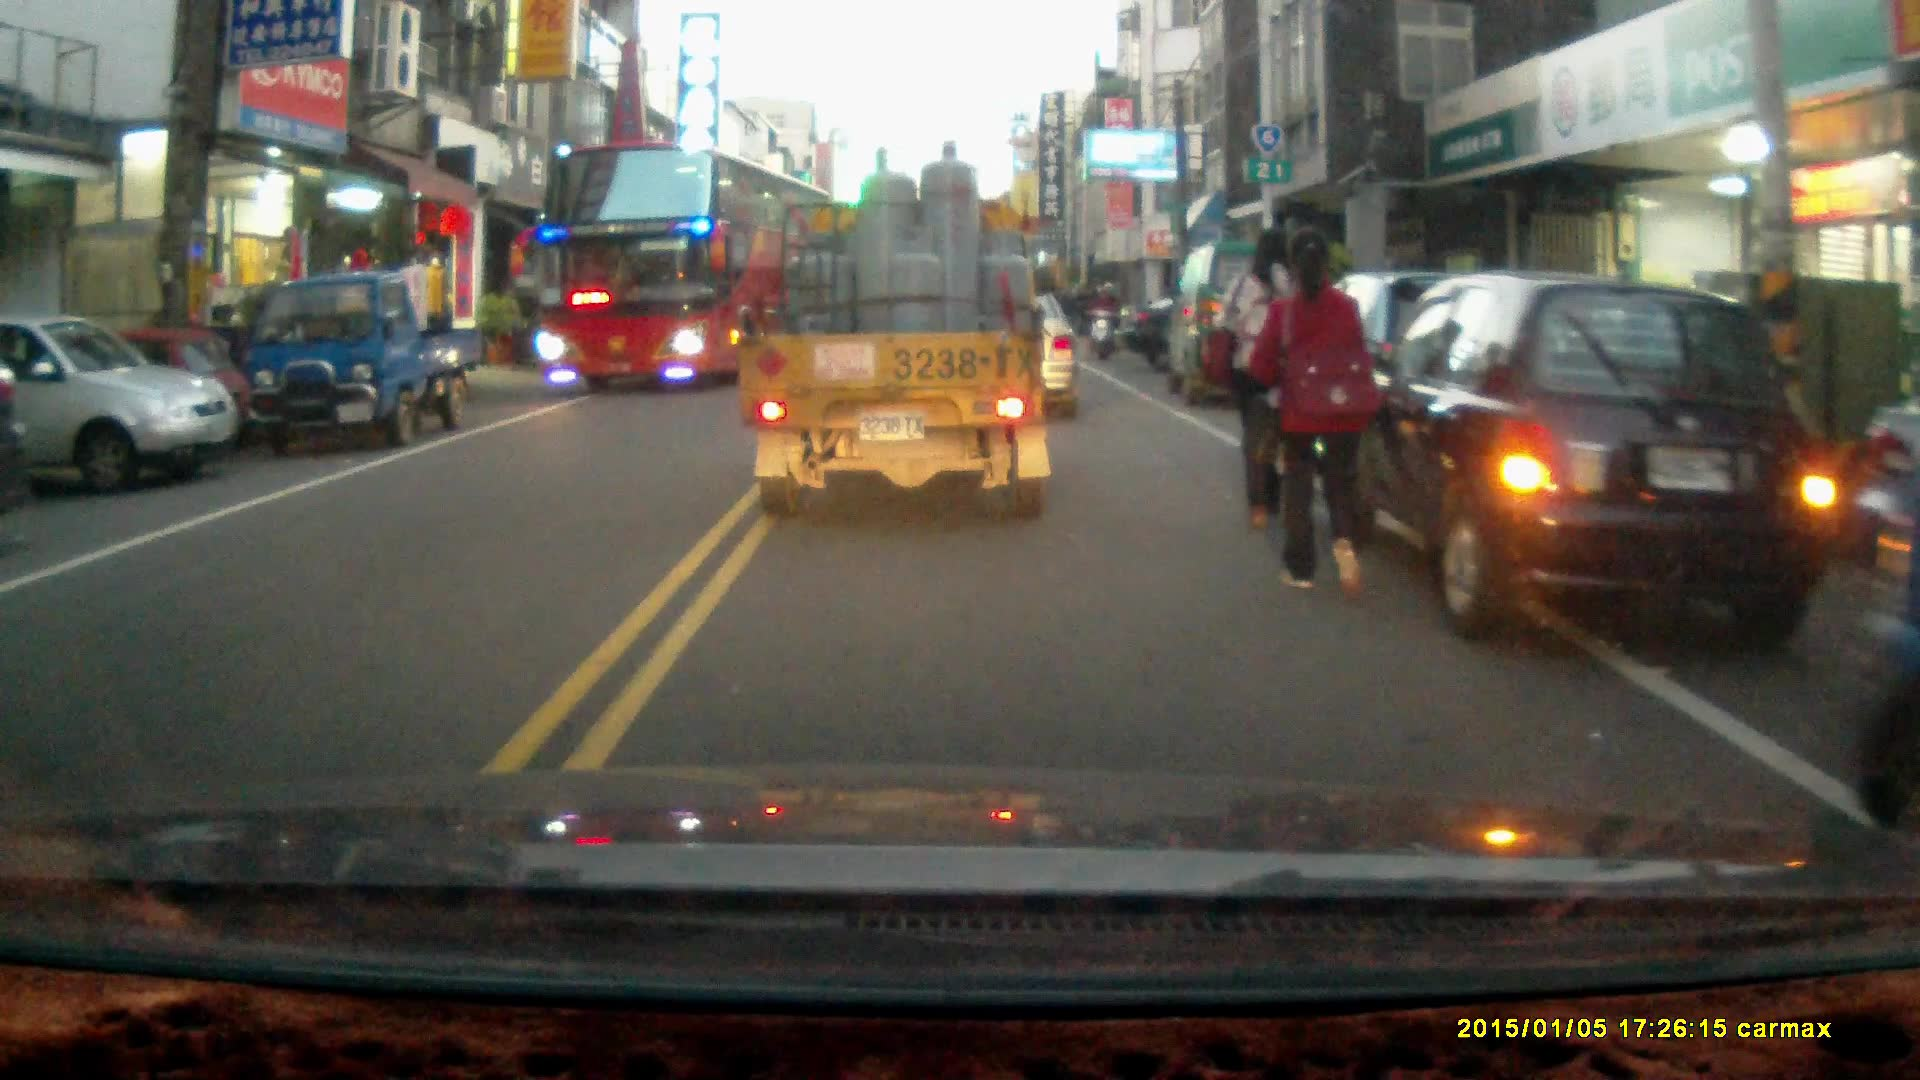pedestrian: (1250, 221, 1380, 601), (1218, 226, 1324, 534)
rider: (1086, 278, 1124, 363)
vehicle: (1338, 271, 1850, 655), (738, 142, 1060, 527), (532, 140, 835, 400), (1, 313, 238, 503), (244, 275, 486, 447), (1162, 241, 1376, 412)
